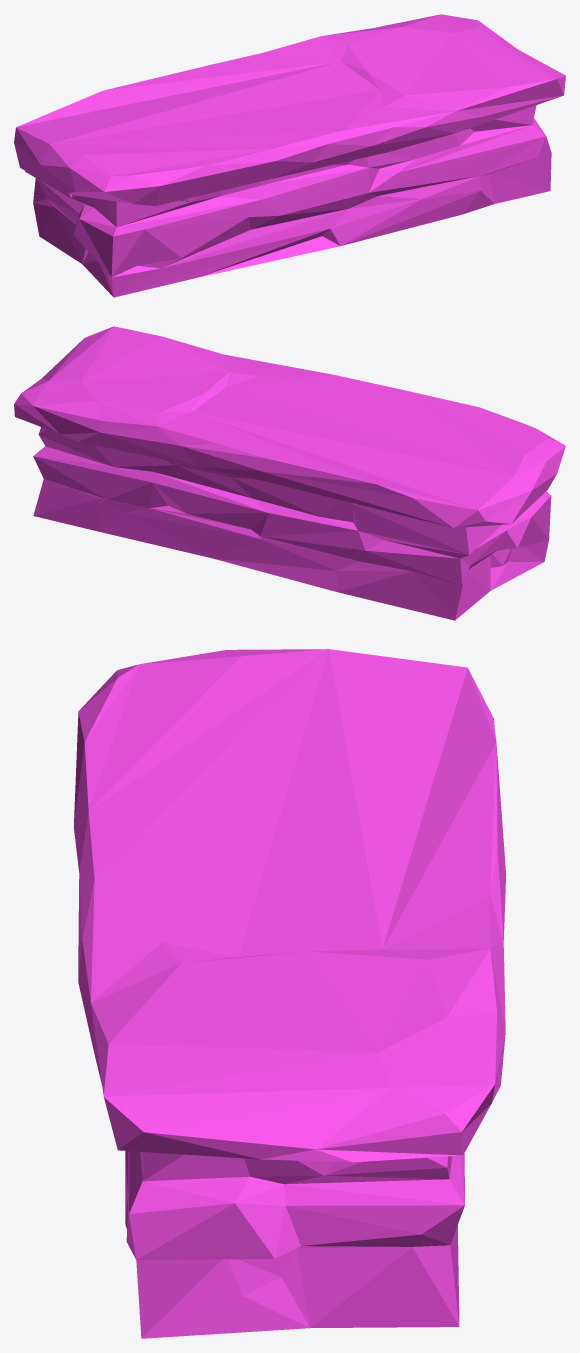
Rendered from SM_Bench_Stone_Simple_B_Fantasy.fbx.
The picture shows the model from 3 angles, top to bottom: view 1: azimuth 30°, elevation 25°; view 2: azimuth 150°, elevation 25°; view 3: azimuth 270°, elevation 25°; orthographic projection. The views are drawn at different scales.
Visible parts, largest first — view 1: SM_Bench_Stone_Simple_B_Fantasy; view 2: SM_Bench_Stone_Simple_B_Fantasy; view 3: SM_Bench_Stone_Simple_B_Fantasy.
Boxes of the visible parts, box(x1,y1,x2,y2) form: SM_Bench_Stone_Simple_B_Fantasy: box(14, 14, 565, 297); SM_Bench_Stone_Simple_B_Fantasy: box(14, 326, 565, 620); SM_Bench_Stone_Simple_B_Fantasy: box(74, 649, 506, 1338).
Bounding box in the file's own units: 2.17 × 0.5366 × 0.8357.
